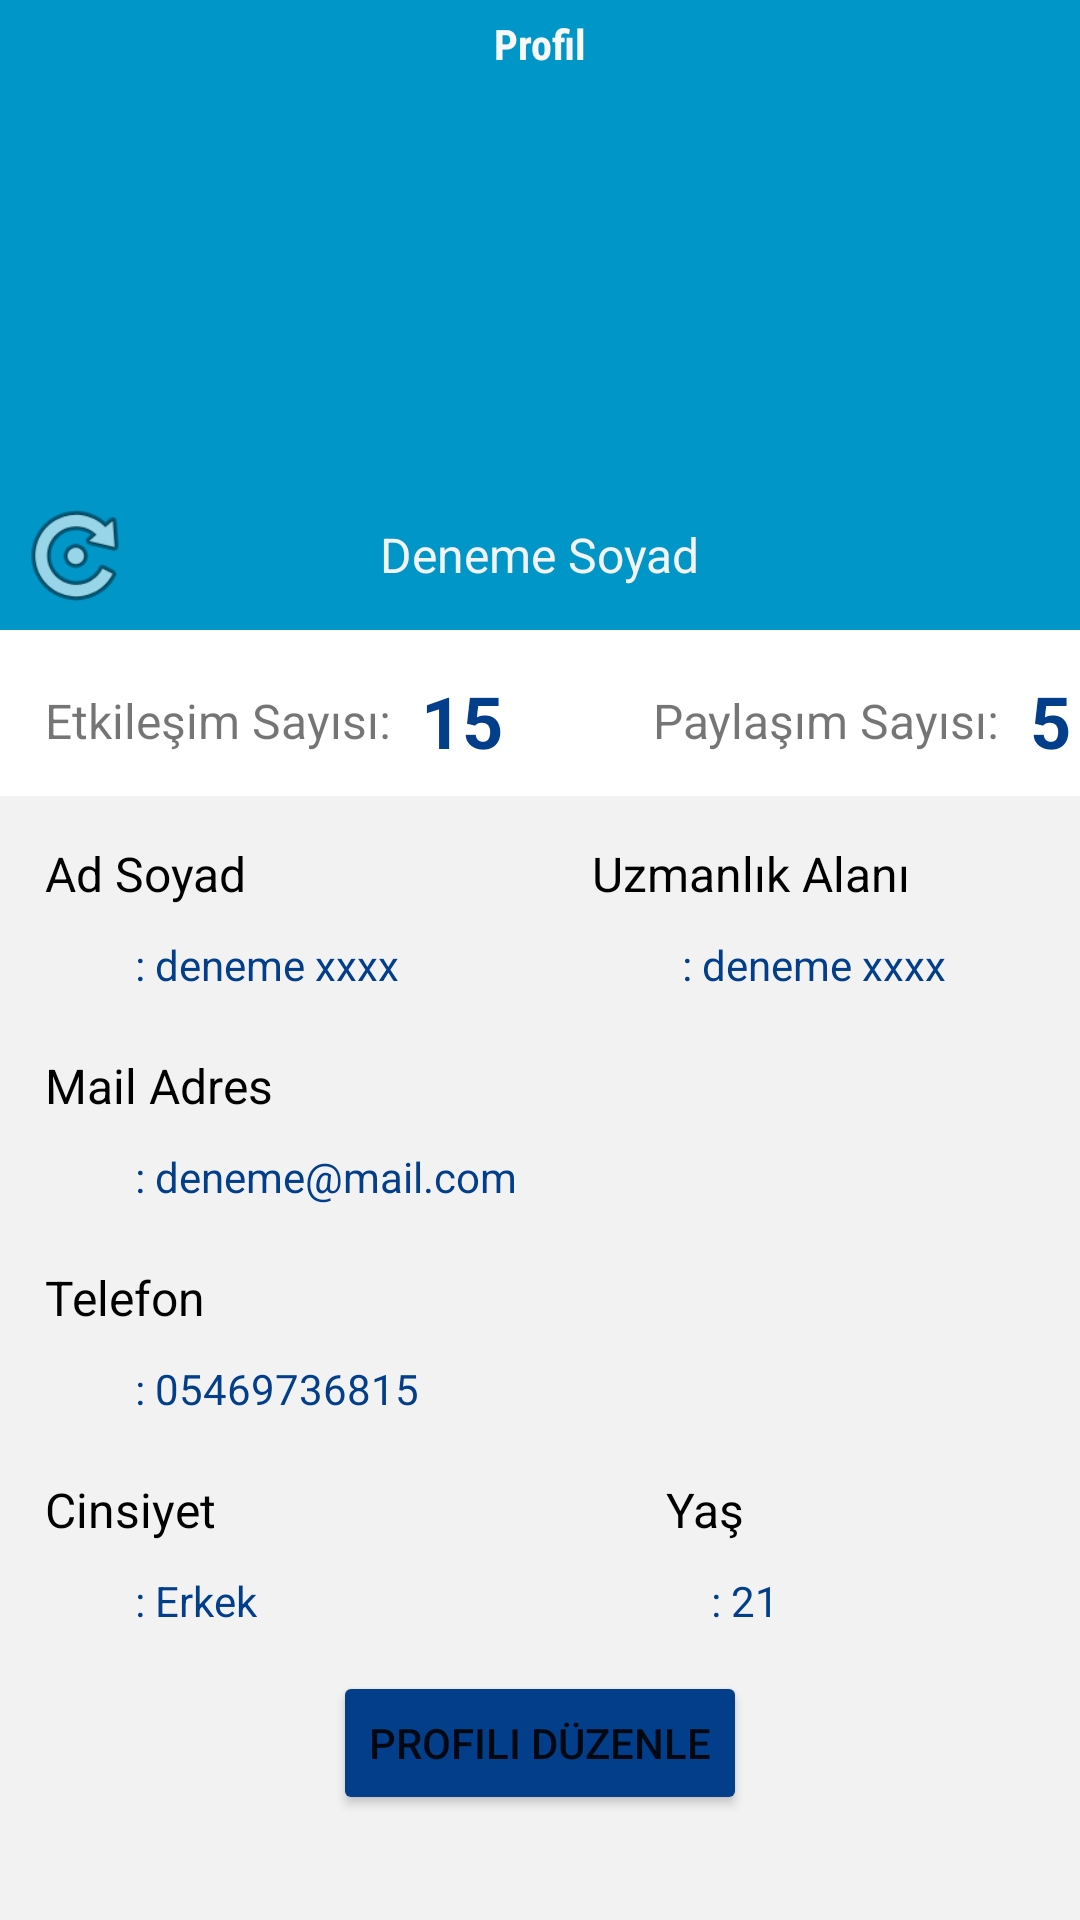

Where icons sit on this 1080 x 1920 app screen, as (x1, y1, x2, y2):
rotate: (31, 511, 119, 601)
